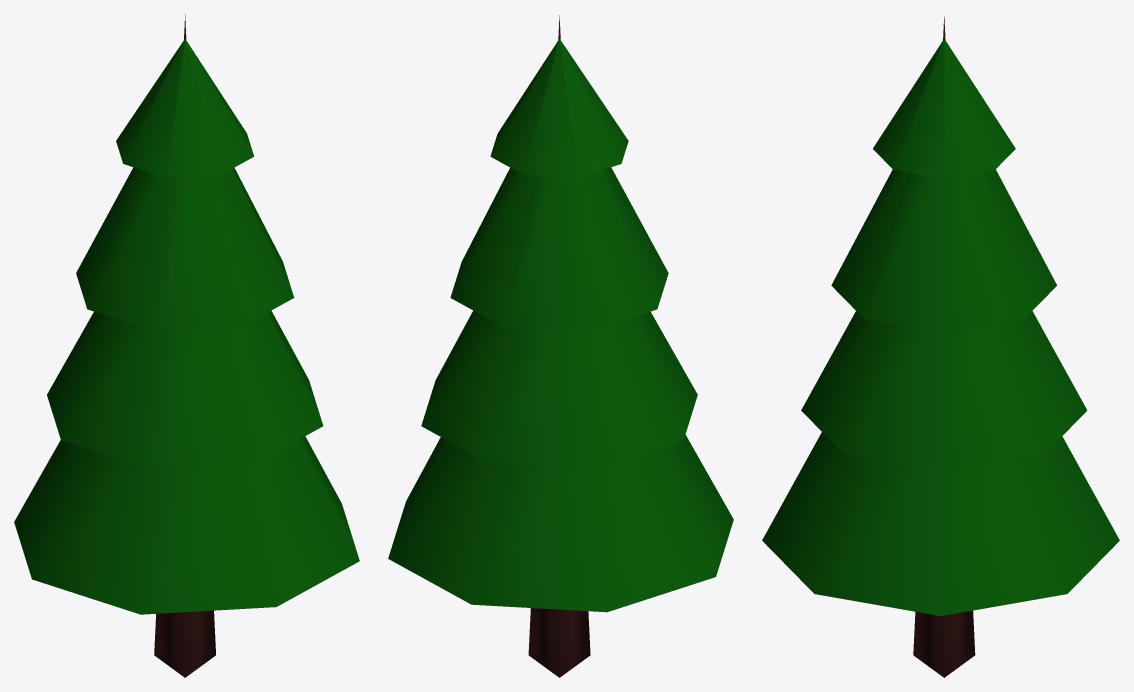
Rendered from FirTree.FBX.
The picture shows the model from 3 angles, left to right: view 1: azimuth 30°, elevation 25°; view 2: azimuth 150°, elevation 25°; view 3: azimuth 270°, elevation 25°; orthographic projection.
Visible parts, largest first — view 1: Cone004, Cone003, Cone002, Cone001, Tree; view 2: Cone004, Cone003, Cone002, Cone001, Tree; view 3: Cone004, Cone003, Cone002, Cone001, Tree.
Boxes of the visible parts, <box> form: Cone004: <box>14,436,359,614</box>; Cone003: <box>47,310,323,468</box>; Cone002: <box>76,167,294,331</box>; Cone001: <box>116,40,253,177</box>; Tree: <box>154,14,215,677</box>; Cone004: <box>388,435,733,612</box>; Cone003: <box>421,310,697,468</box>; Cone002: <box>450,167,668,331</box>; Cone001: <box>490,40,628,177</box>; Tree: <box>528,15,590,677</box>; Cone004: <box>762,432,1119,615</box>; Cone003: <box>801,311,1087,470</box>; Cone002: <box>831,169,1056,333</box>; Cone001: <box>873,40,1015,178</box>; Tree: <box>913,16,975,677</box>.
Size of the model in its own units: 19.69 by 39.37 by 19.69.
